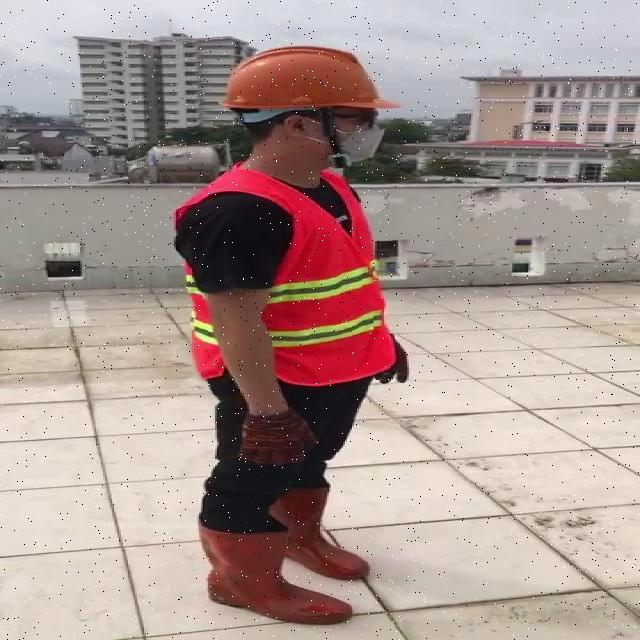Hard_hat: (219, 39, 404, 127)
Person: (148, 30, 418, 640)
Vest: (259, 166, 390, 391)
